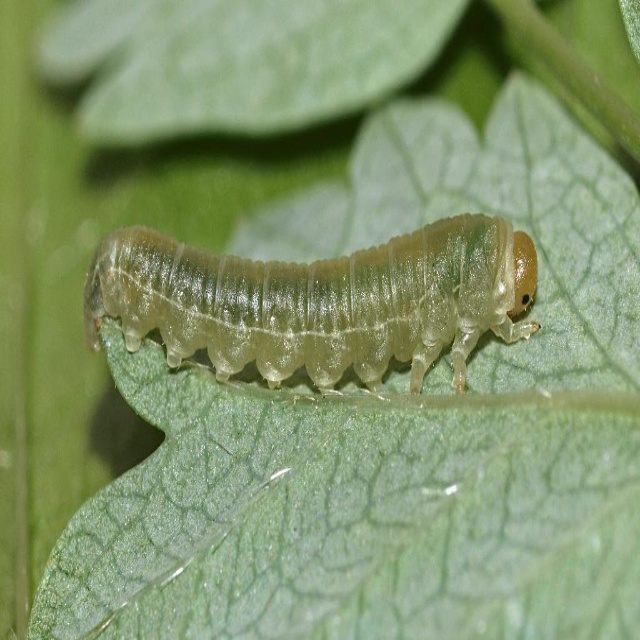Caterpillar: (82, 205, 538, 394)
